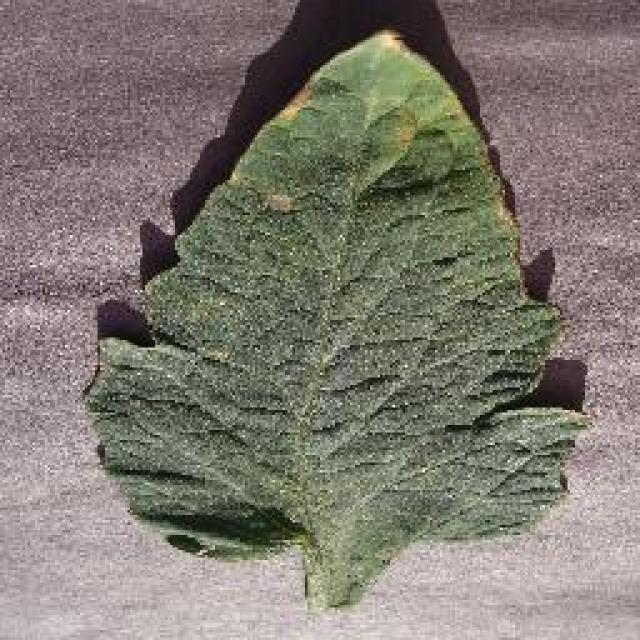Tomato Septoria spot leaf: (84, 31, 584, 574)
